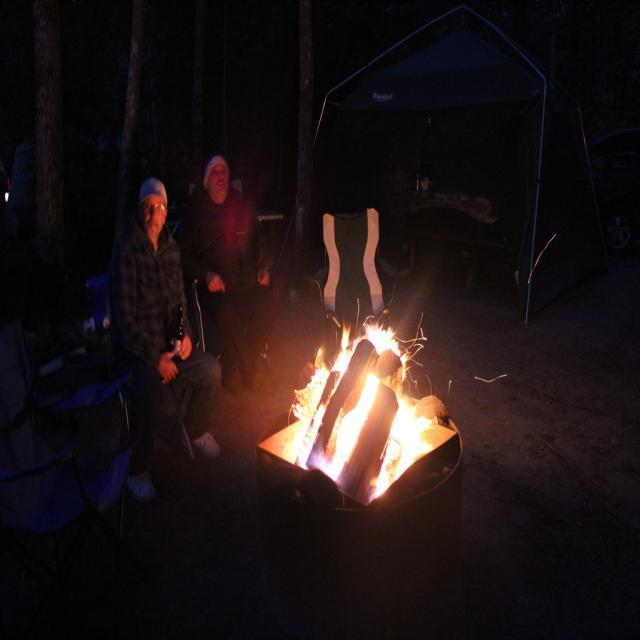Fire: (380, 392, 425, 486), (294, 364, 326, 432), (339, 406, 364, 461), (363, 324, 396, 360)
